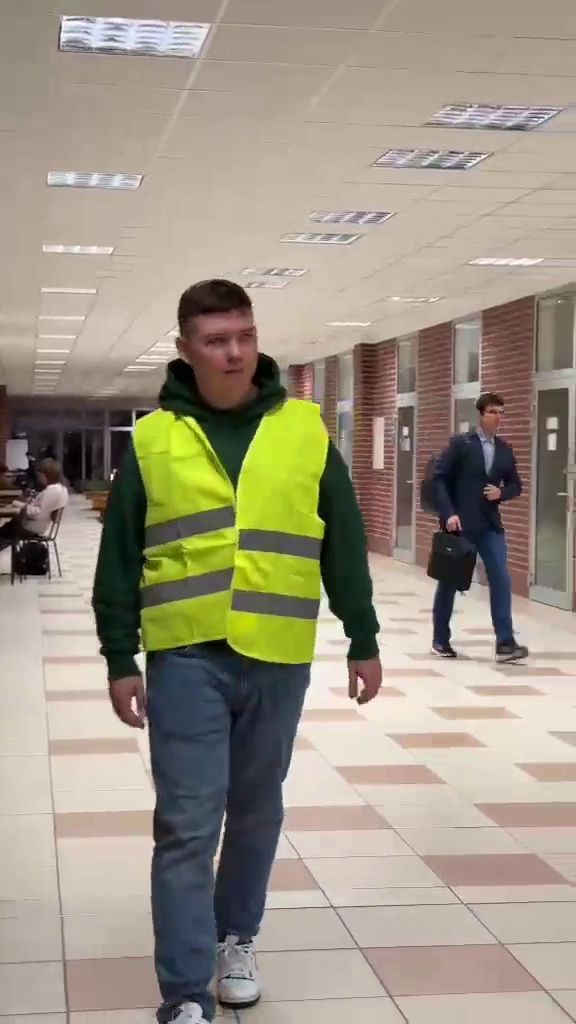no vest: (423, 383, 534, 669), (0, 448, 67, 585)
vest: (94, 283, 381, 1024)
